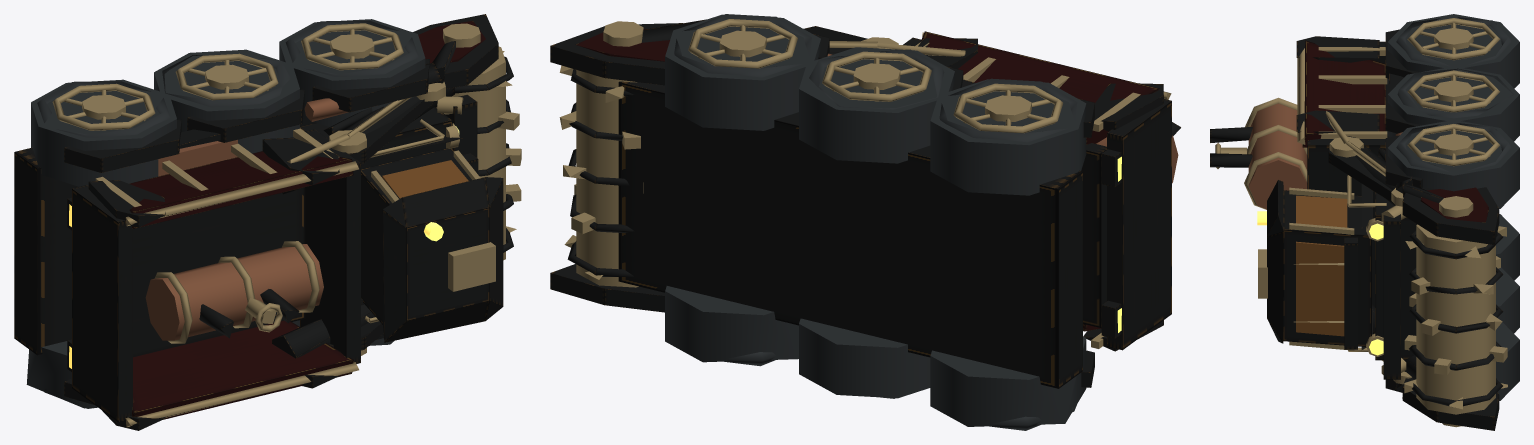
Rendered from harvester-low.glb.
The picture shows the model from 3 angles, left to right: view 1: azimuth 30°, elevation 25°; view 2: azimuth 150°, elevation 25°; view 3: azimuth 270°, elevation 25°; orthographic projection. The views are drawn at different scales.
Visible parts, largest first — view 1: harvester-root.001 / Riveted iron.001, harvester-root.001 / Burgundy enamel.001, harvester-root.001 / Machined brass.001, harvester-root.001 / Copper feed lines.001, Wheel 2 1.001 / Tire rubber.001, Wheel 1 1.001 / Tire rubber.001, Wheel 0 1.001 / Tire rubber.001, Mineral intake roller.001 / Machined brass.001, Wheel 0 1.001 / Machined brass.001, Wheel 2 1.001 / Machined brass.001, Wheel 1 1.001 / Machined brass.001, Wheel 2 -1.001 / Tire rubber.001 (+2 smaller); view 2: harvester-root.001 / Riveted iron.001, Wheel 2 1.001 / Tire rubber.001, Wheel 0 1.001 / Tire rubber.001, Wheel 1 1.001 / Tire rubber.001, Mineral intake roller.001 / Machined brass.001, Wheel 2 -1.001 / Tire rubber.001, Wheel 0 -1.001 / Tire rubber.001, Wheel 1 -1.001 / Tire rubber.001, harvester-root.001 / Burgundy enamel.001, Wheel 1 1.001 / Machined brass.001, Wheel 0 1.001 / Machined brass.001, Wheel 2 1.001 / Machined brass.001 (+2 smaller); view 3: harvester-root.001 / Riveted iron.001, Mineral intake roller.001 / Machined brass.001, harvester-root.001 / Machined brass.001, Wheel 0 1.001 / Tire rubber.001, harvester-root.001 / Amber glazing.001, harvester-root.001 / Burgundy enamel.001, Wheel 1 1.001 / Tire rubber.001, Wheel 2 1.001 / Tire rubber.001, harvester-root.001 / Copper feed lines.001, Mineral intake roller.001 / Riveted iron.001, Wheel 0 1.001 / Machined brass.001, Wheel 2 1.001 / Machined brass.001 (+5 smaller).
Boxes of the visible parts, x1,y1,x2,y2 form: harvester-root.001 / Riveted iron.001: (14,14,503,430); harvester-root.001 / Burgundy enamel.001: (129,20,485,419); harvester-root.001 / Machined brass.001: (95,23,495,427); harvester-root.001 / Copper feed lines.001: (145,98,348,340); Wheel 2 1.001 / Tire rubber.001: (31,79,176,186); Wheel 1 1.001 / Tire rubber.001: (154,49,299,153); Wheel 0 1.001 / Tire rubber.001: (279,19,425,126); Mineral intake roller.001 / Machined brass.001: (436,46,521,260); Wheel 0 1.001 / Machined brass.001: (301,23,403,70); Wheel 2 1.001 / Machined brass.001: (52,83,155,130); Wheel 1 1.001 / Machined brass.001: (175,53,278,100); Wheel 2 -1.001 / Tire rubber.001: (26,341,97,408); harvester-root.001 / Riveted iron.001: (550,19,1180,388); Wheel 2 1.001 / Tire rubber.001: (930,78,1086,195); Wheel 0 1.001 / Tire rubber.001: (665,14,820,130); Wheel 1 1.001 / Tire rubber.001: (799,47,954,163); Mineral intake roller.001 / Machined brass.001: (559,65,643,287); Wheel 2 -1.001 / Tire rubber.001: (930,336,1086,430); Wheel 0 -1.001 / Tire rubber.001: (665,286,798,366); Wheel 1 -1.001 / Tire rubber.001: (799,318,930,398); harvester-root.001 / Burgundy enamel.001: (575,29,1159,331); Wheel 1 1.001 / Machined brass.001: (822,51,931,101); Wheel 0 1.001 / Machined brass.001: (688,19,797,68); Wheel 2 1.001 / Machined brass.001: (953,83,1063,133); harvester-root.001 / Riveted iron.001: (1210,29,1499,430); Mineral intake roller.001 / Machined brass.001: (1404,224,1507,414); harvester-root.001 / Machined brass.001: (1215,47,1473,427); Wheel 0 1.001 / Tire rubber.001: (1387,121,1519,208); harvester-root.001 / Amber glazing.001: (1296,195,1347,336); harvester-root.001 / Burgundy enamel.001: (1302,40,1488,222); Wheel 1 1.001 / Tire rubber.001: (1387,67,1519,141); Wheel 2 1.001 / Tire rubber.001: (1387,14,1519,88); harvester-root.001 / Copper feed lines.001: (1248,103,1402,209); Mineral intake roller.001 / Riveted iron.001: (1409,230,1503,406); Wheel 0 1.001 / Machined brass.001: (1407,124,1499,166); Wheel 2 1.001 / Machined brass.001: (1407,18,1500,60).
Bounding box in the file's own units: 1.52 × 0.849 × 0.9728.
Materials: 7 (2 with a texture image).
